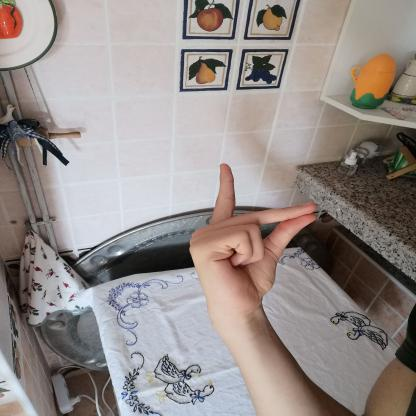TAA: (180, 158, 326, 322)
